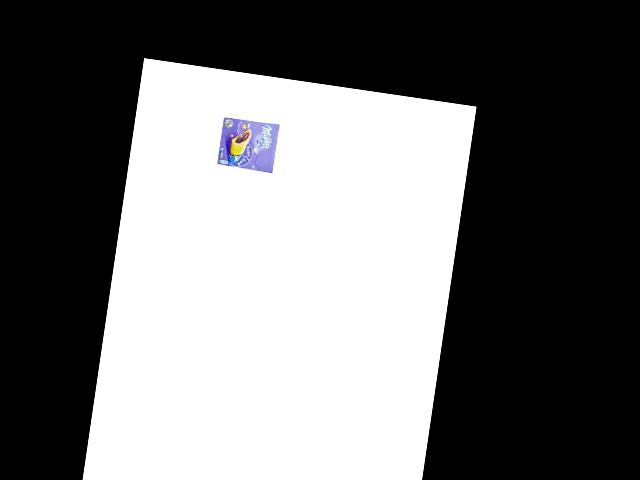chocolate: (212, 113, 283, 175)
